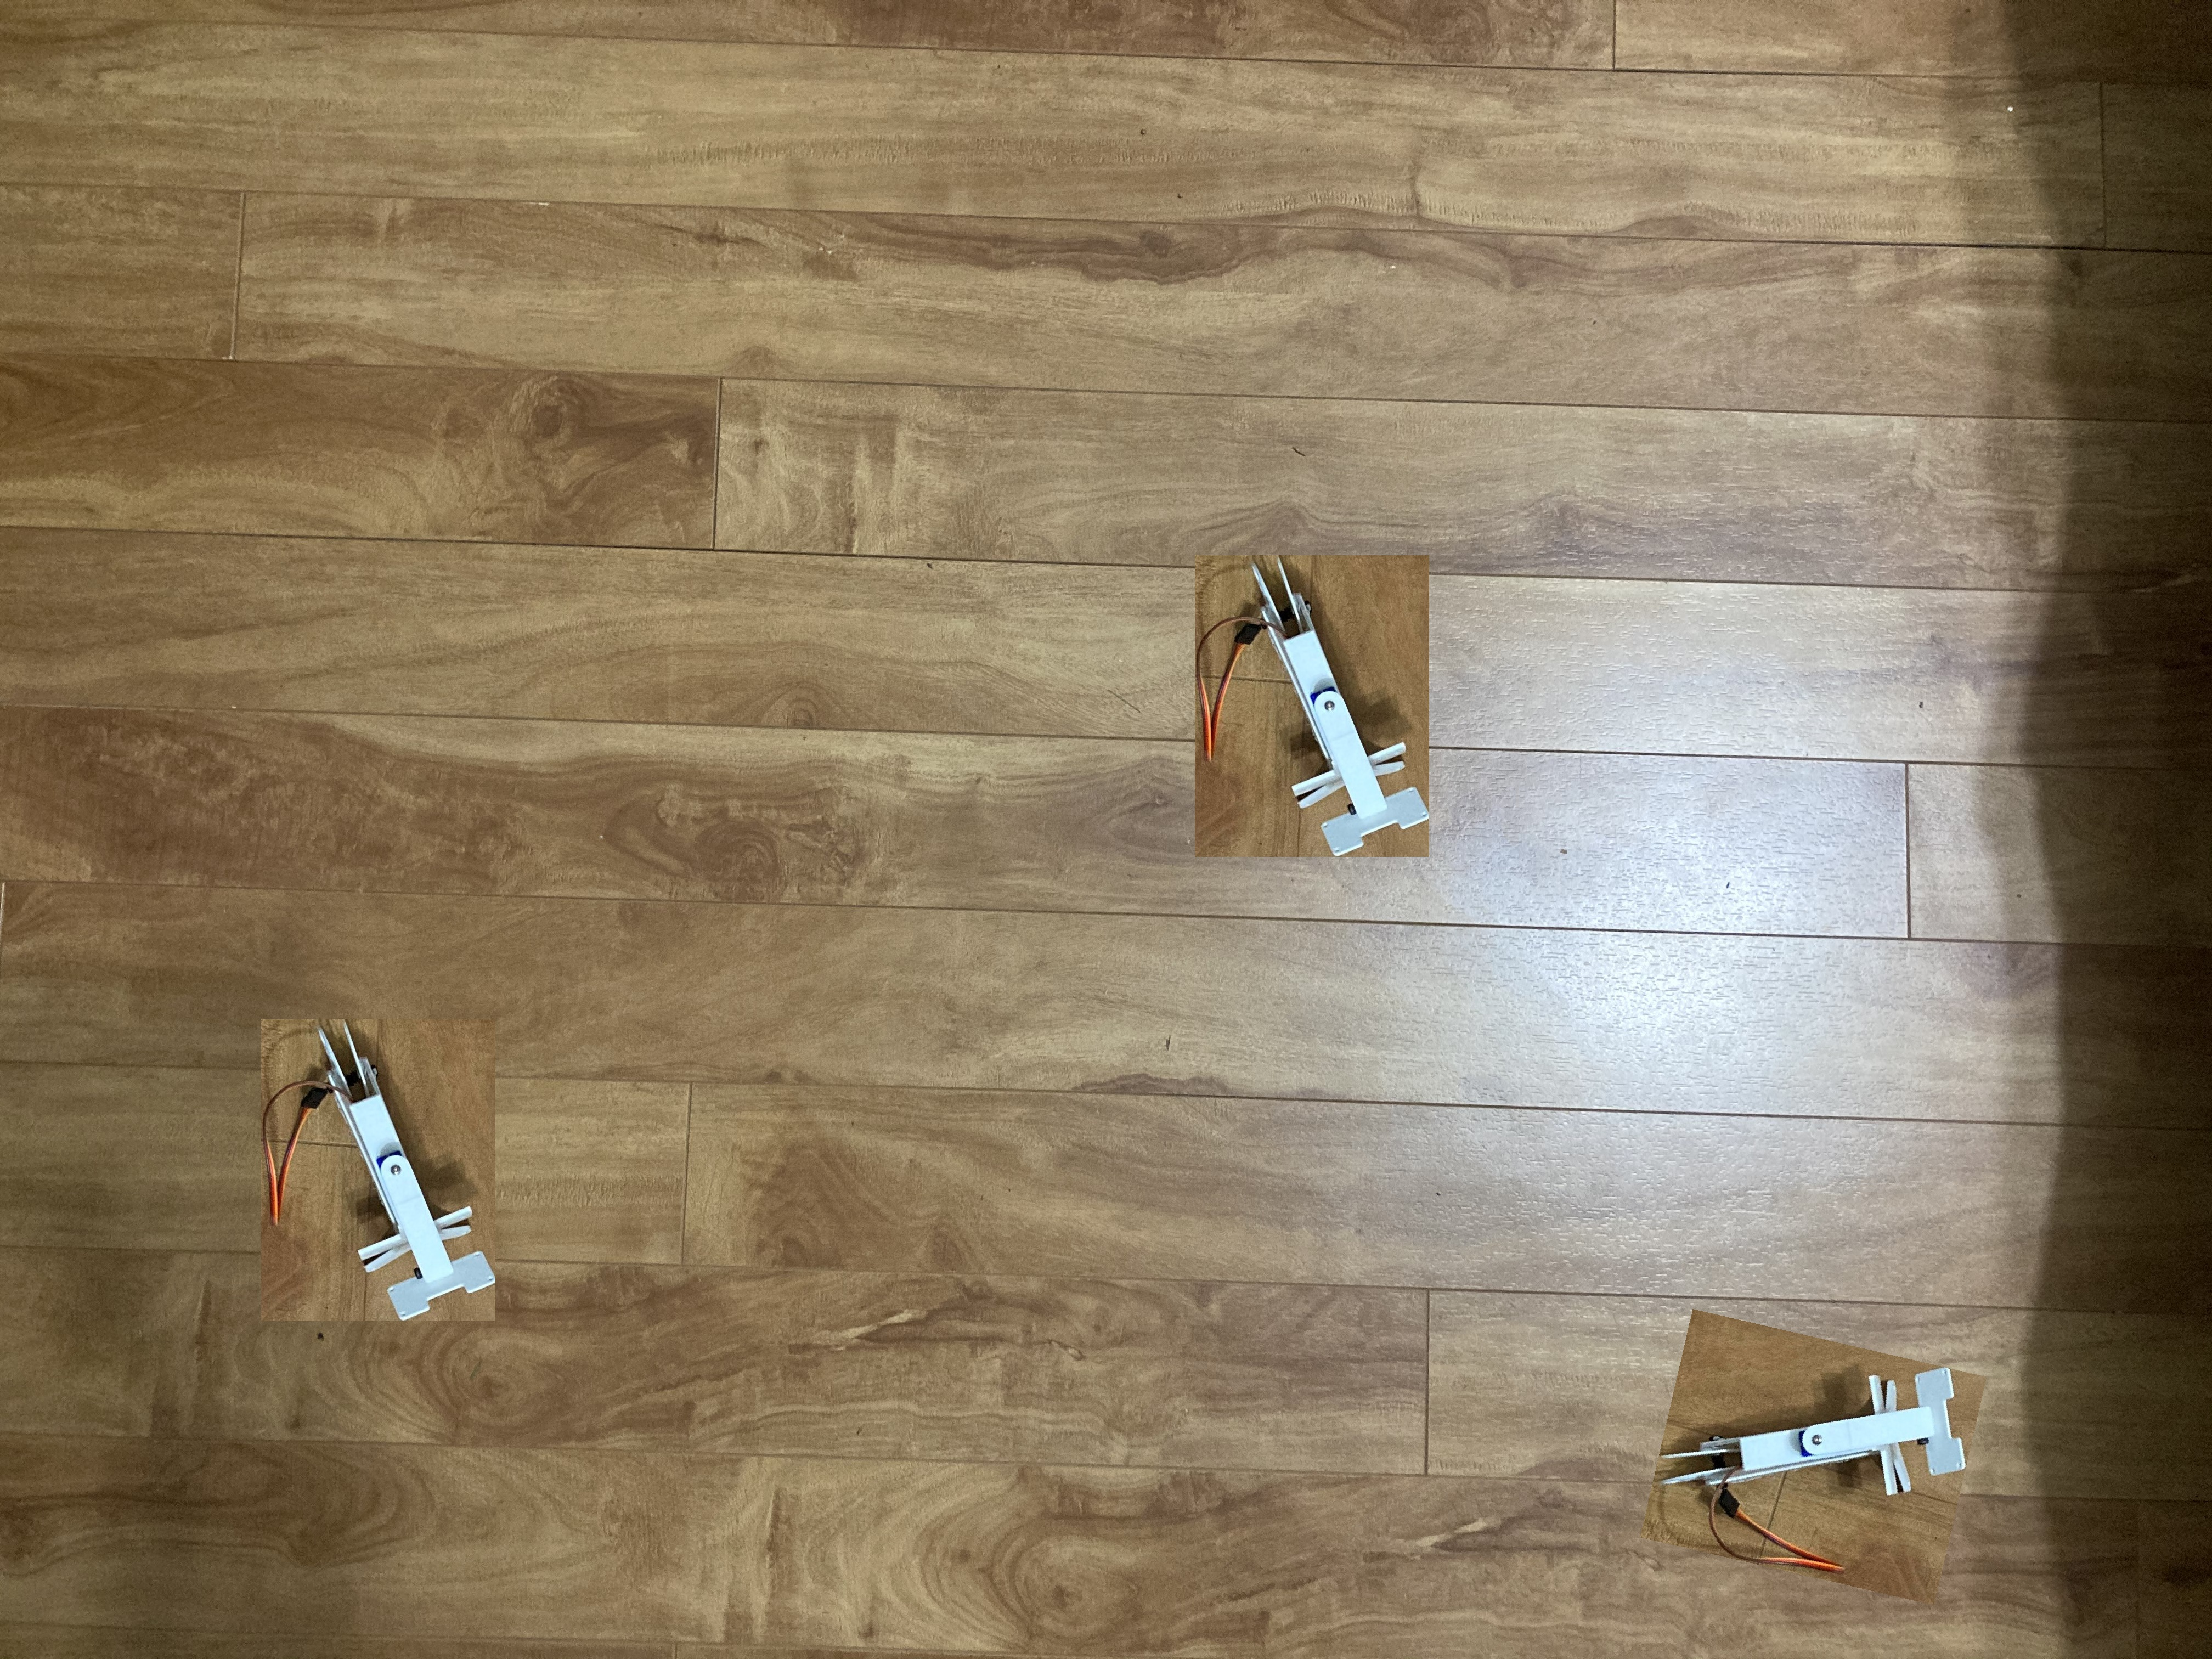robot: (1655, 1310, 2006, 1581), (1183, 545, 1453, 868), (286, 1007, 517, 1324)
